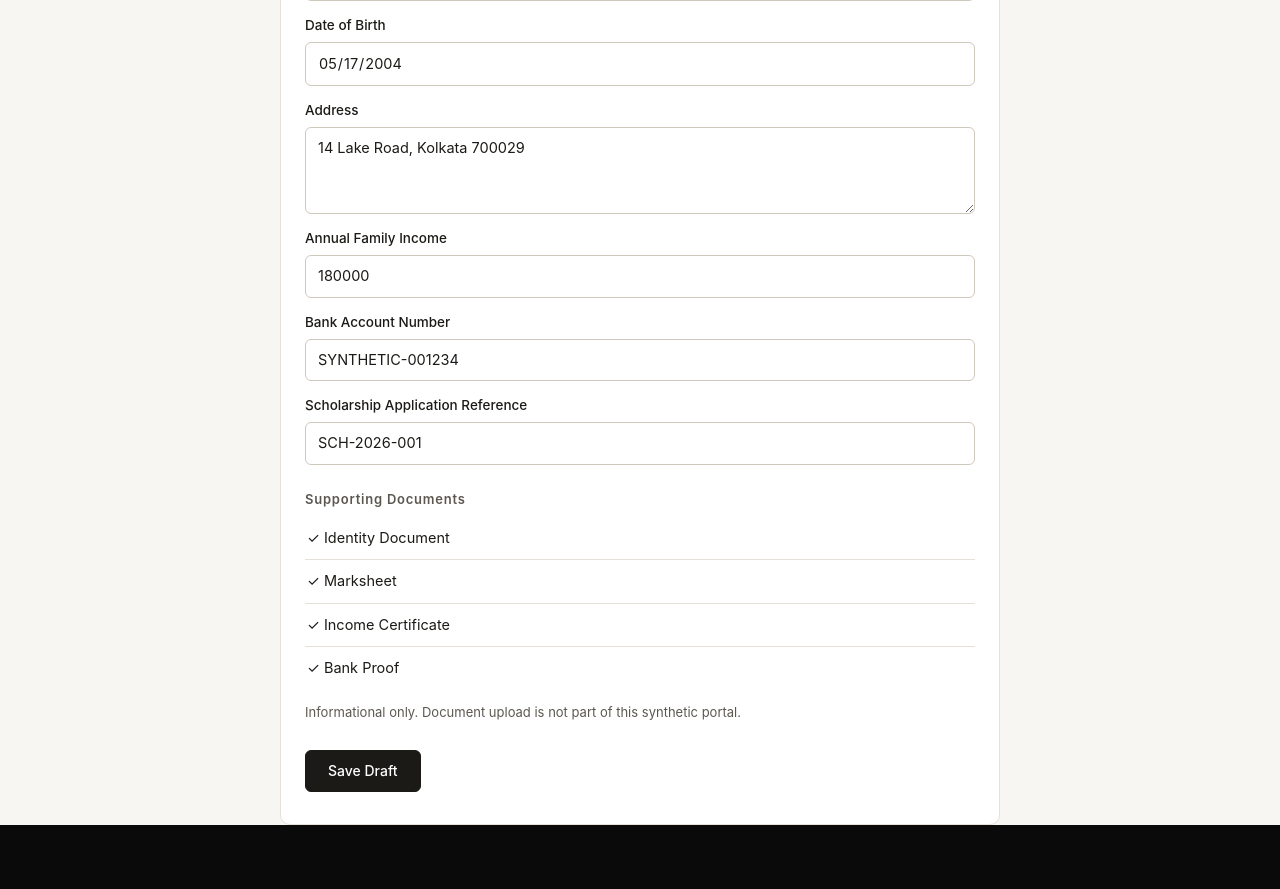
Test case: synthetic scholarship portal › starts in DRAFT and moves to SAVED on Save Draft
The width and height of the screenshot is (1280, 889).
(page scrolled)
Click the button with test id "save-draft": (363, 771) [305,750,420,792]
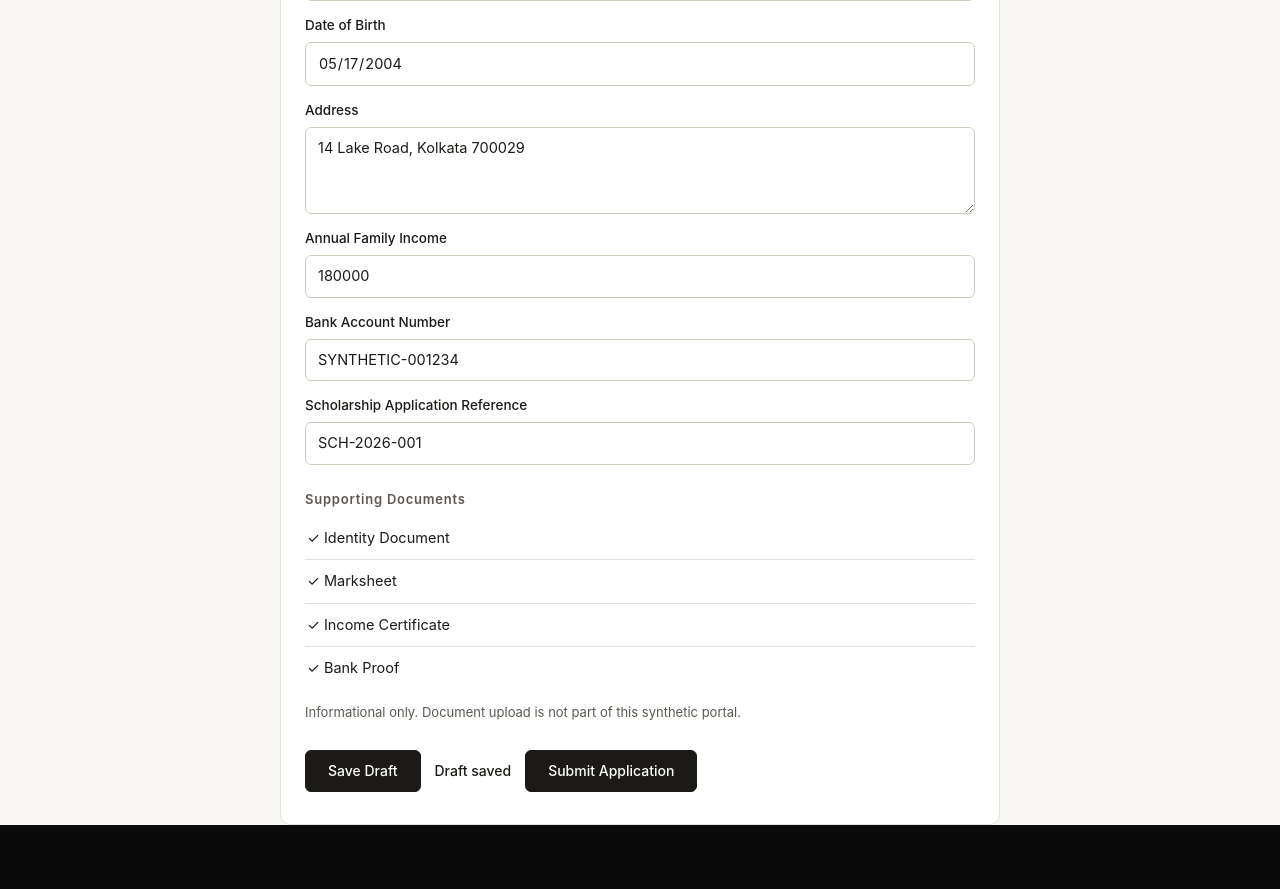
Check: the text "Draft saved" is shown, box [434,760,511,782]
